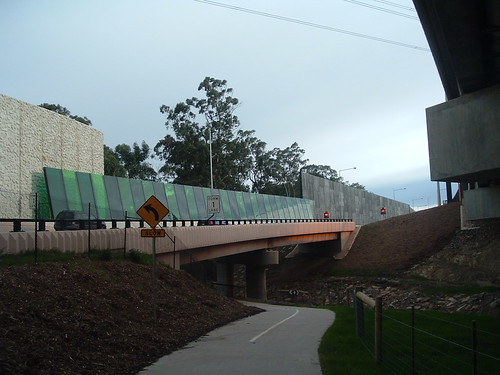bridge: (142, 186, 362, 302)
road: (137, 295, 343, 375)
sky: (1, 1, 447, 172)
tree: (159, 81, 254, 184)
